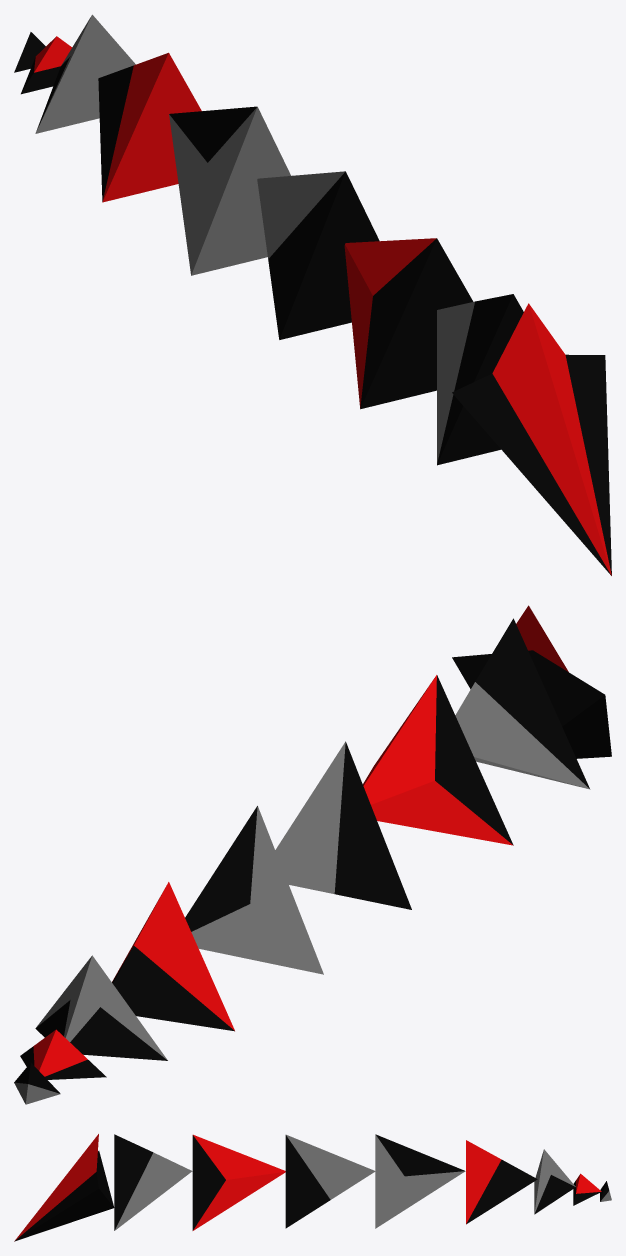
The model's file is Ouroboros.fbx.
3 renders of one model, top to bottom at view 1: azimuth 30°, elevation 25°; view 2: azimuth 150°, elevation 25°; view 3: azimuth 270°, elevation 25°, orthographic. The views are drawn at different scales.
Visible parts, largest first — view 1: cabeza, tronco 2, tronco 4, tronco 3, tronco 5, tronco 1, tronco 6, tronco 7; view 2: tronco 2, tronco 4, tronco 3, tronco 1, tronco 5, tronco 6, cabeza, tronco 7, cola; view 3: tronco 2, tronco 3, tronco 4, cabeza, tronco 1, tronco 5, tronco 6, tronco 7, cola.
Boxes of the visible parts, box(x1,y1,x2,y2) form: cabeza: box(452, 303, 611, 575); tronco 2: box(344, 238, 473, 409); tronco 4: box(169, 106, 290, 275); tronco 3: box(257, 171, 379, 339); tronco 5: box(98, 52, 201, 202); tronco 1: box(437, 294, 523, 465); tronco 6: box(35, 14, 135, 133); tronco 7: box(21, 36, 71, 94); tronco 2: box(363, 675, 513, 845); tronco 4: box(185, 806, 323, 974); tronco 3: box(275, 741, 411, 909); tronco 1: box(455, 618, 590, 789); tronco 5: box(112, 882, 234, 1031); tronco 6: box(35, 955, 167, 1060); cabeza: box(452, 605, 611, 758); tronco 7: box(20, 1029, 106, 1079); cola: box(14, 1062, 60, 1104); tronco 2: box(192, 1134, 285, 1230); tronco 3: box(285, 1134, 375, 1228); tronco 4: box(375, 1134, 465, 1228); cabeza: box(14, 1134, 114, 1241); tronco 1: box(114, 1134, 192, 1230); tronco 5: box(466, 1140, 537, 1224); tronco 6: box(534, 1149, 575, 1214); tronco 7: box(573, 1173, 601, 1205); cola: box(600, 1181, 611, 1201).
Size of the model in its own units: 80.08 by 106 by 530.
